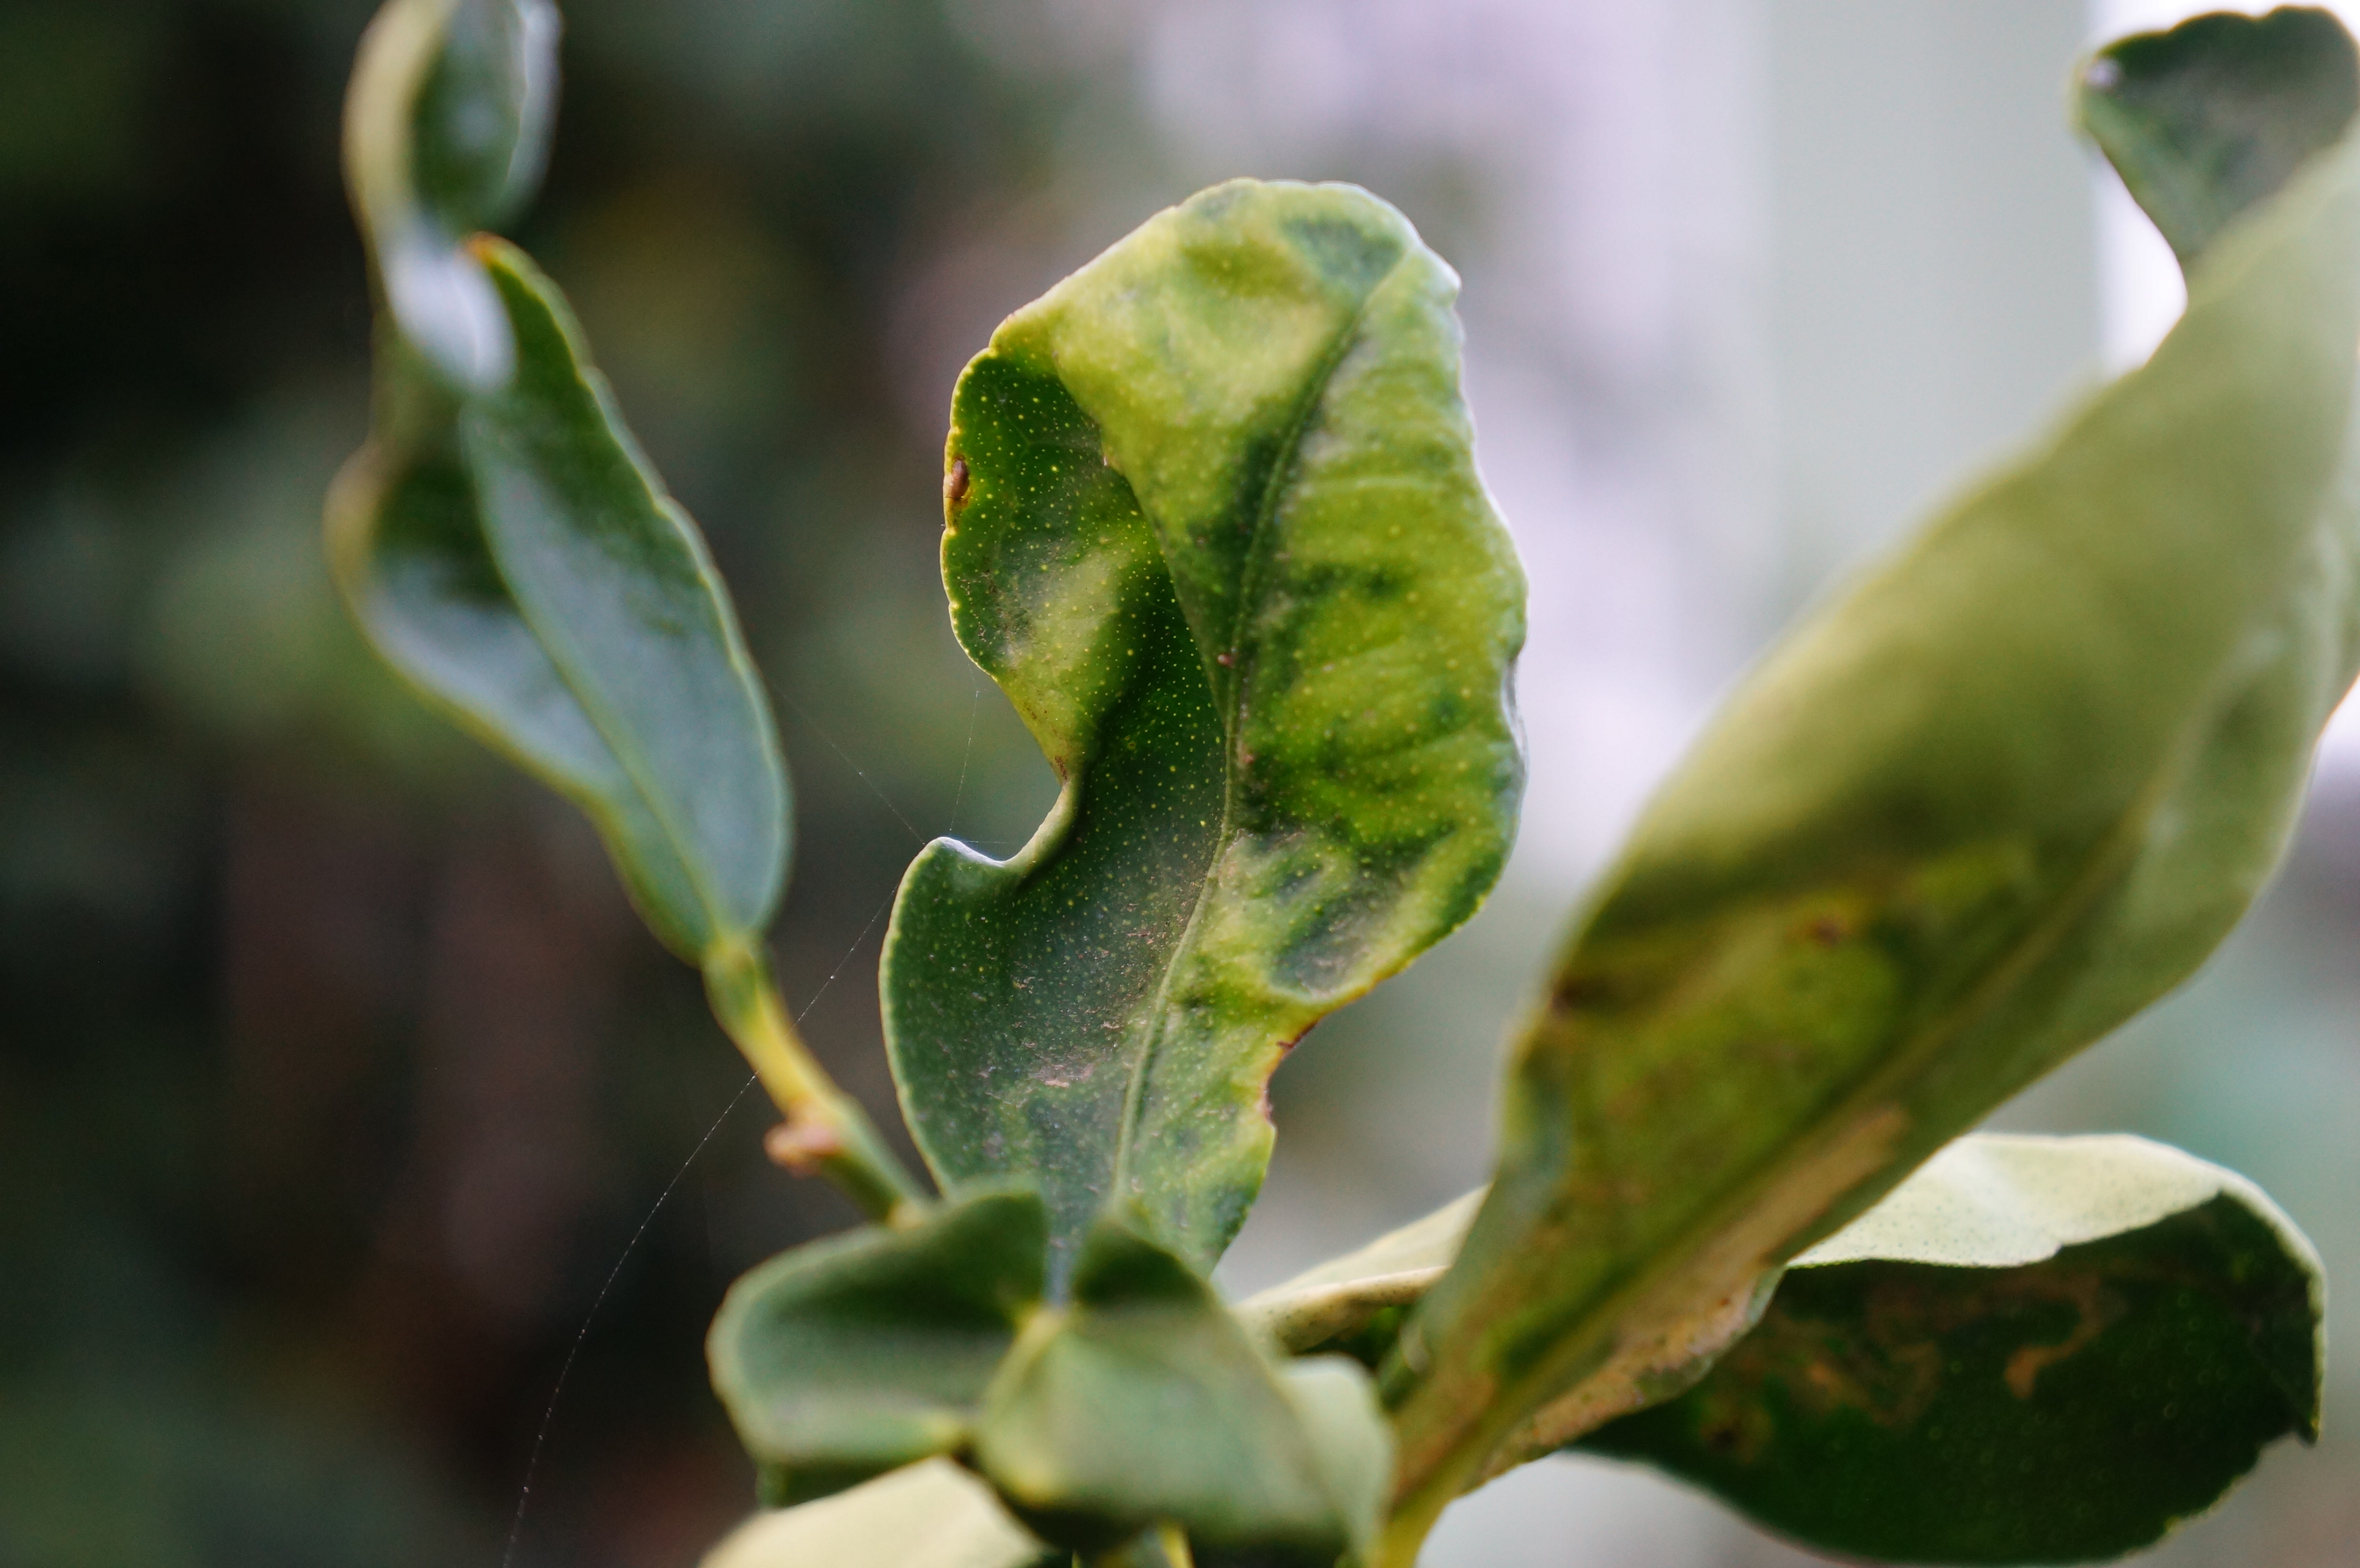curly: (840, 166, 1543, 1269)
